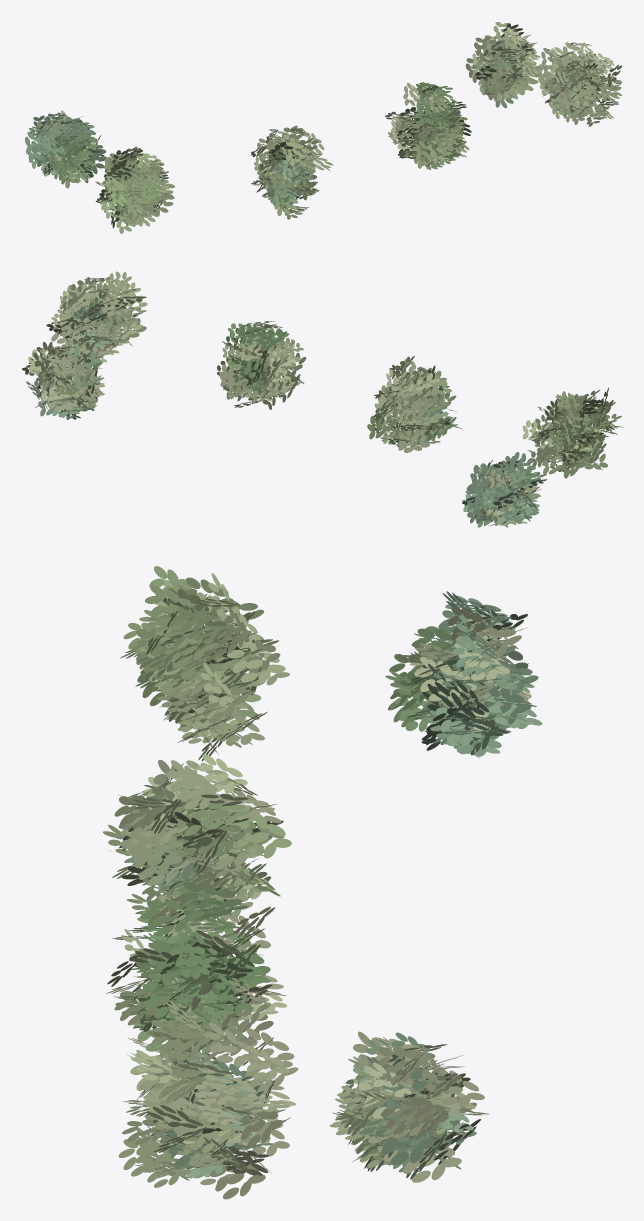
Rendered from campus-tree--2_-1-far.glb.
The picture shows the model from 3 angles, top to bottom: view 1: azimuth 30°, elevation 25°; view 2: azimuth 150°, elevation 25°; view 3: azimuth 270°, elevation 25°; orthographic projection. The views are drawn at different scales.
Parts seen in each view (by area): view 1: Campus leaf canopy; view 2: Campus leaf canopy; view 3: Campus leaf canopy.
Part boxes in pixels (x1=…): Campus leaf canopy: x1=25, y1=22, x2=621, y2=233; Campus leaf canopy: x1=22, y1=271, x2=624, y2=527; Campus leaf canopy: x1=103, y1=566, x2=542, y2=1199.
Size of the model in its own units: 40.01 by 7.15 by 14.48.
Materials: 1 (1 with a texture image).
